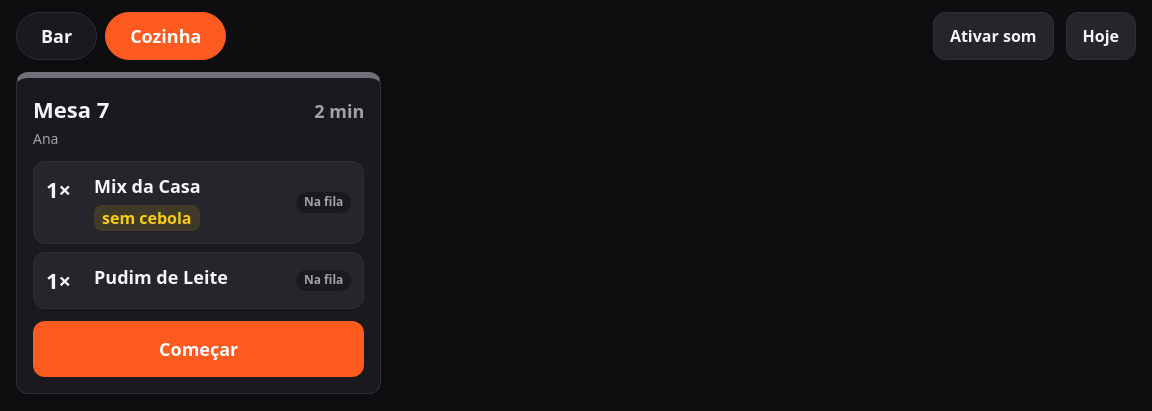
Test: TelaProducao › tocar no item avança o status
Click the button with aria-label "Mix da Casa: Na fila". click: click(199, 203)
box: [33,161,364,244]
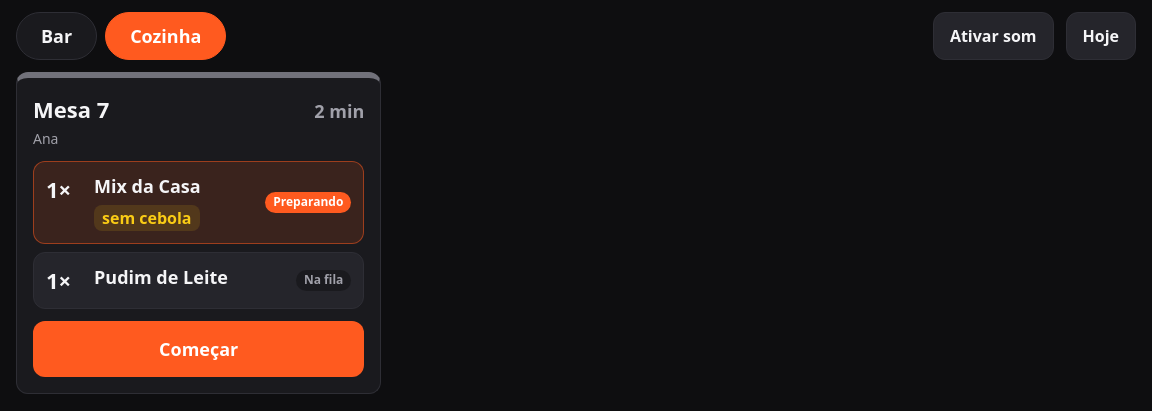
Check: the button with aria-label "Mix da Casa: Preparando" is shown
Click the button with aria-label "Mix da Casa: Preparando". click: click(199, 203)
box: [33,161,364,244]
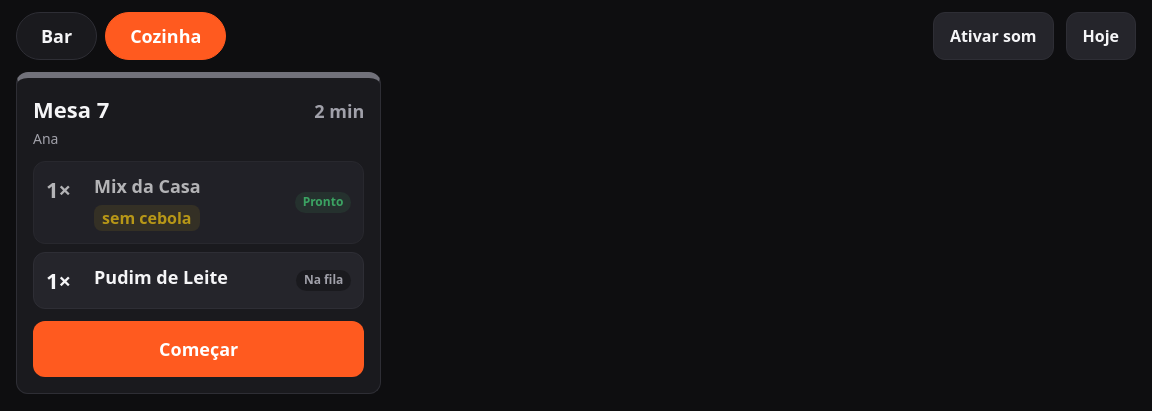
Check: the button with aria-label "Mix da Casa: Pronto" is disabled, box [33,161,364,244]
